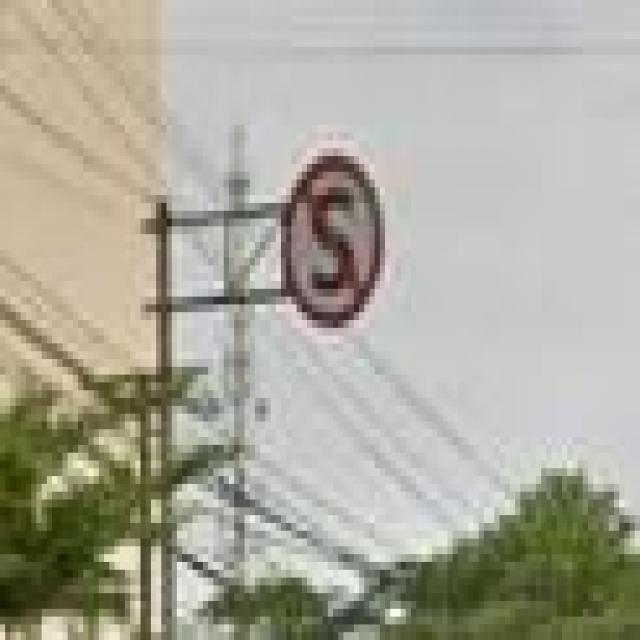traffic sign: (276, 156, 386, 328)
